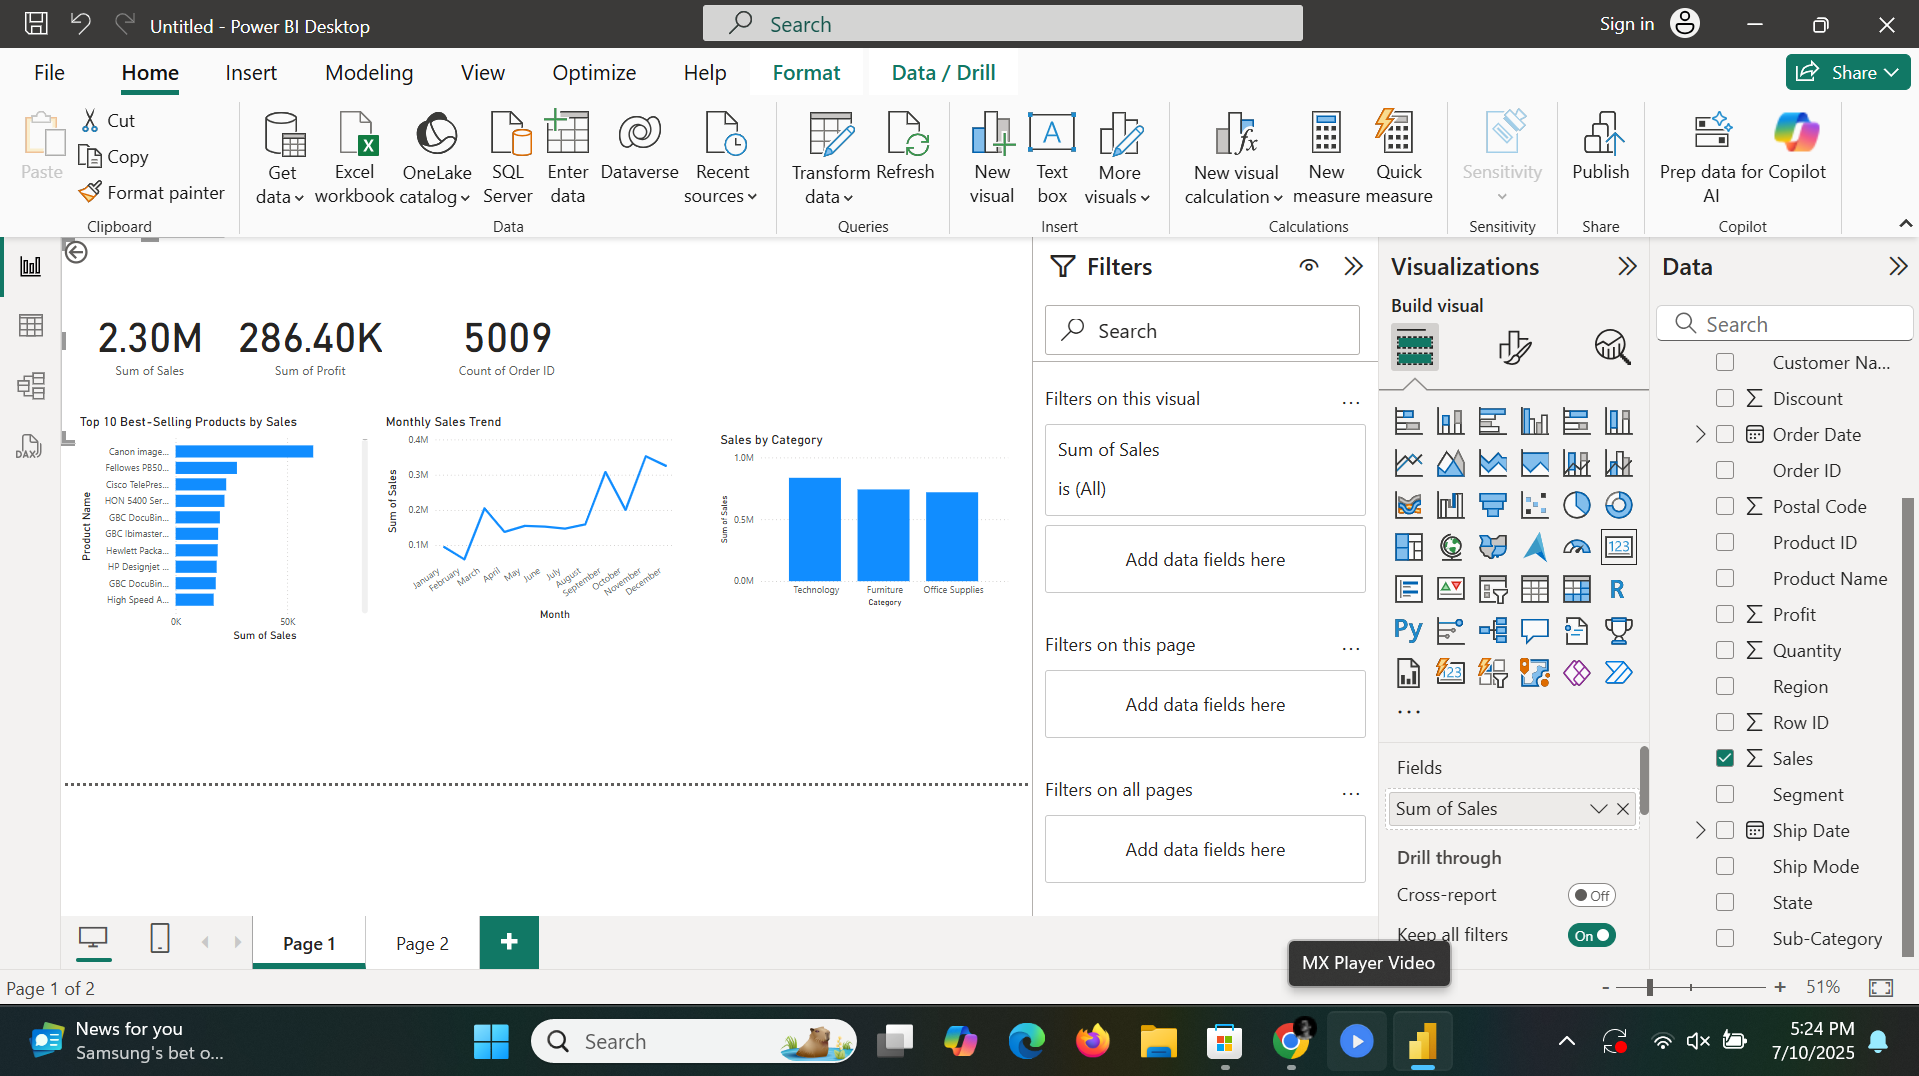

The page's visual inventory and layout, read from the dashboard file:
{"tool":"powerbi","page":{"name":"Page 1","canvas":[1280,720],"ordinal":0},"visuals":[{"type":"card","title":"Year-wise Sales Performance (2014–2017)","fields":{"Values":["Sum(Sample - Superstore.Sales)"]},"box":[20,22,162,228],"z":0},{"type":"card","fields":{"Values":["Sum(Sample - Superstore.Profit)"]},"box":[182,20,185,233],"z":1},{"type":"card","fields":{"Values":["Count(Sample - Superstore.Order ID)"]},"box":[377,77,283,119],"z":3},{"type":"actionButton","box":[0,0,100,40],"z":4},{"type":"clusteredBarChart","title":"Top 10 Best-Selling Products by Sales","fields":{"Category":["Sample - Superstore.Product Name"],"Y":["Sum(Sample - Superstore.Sales)"]},"box":[20,207,357,295],"z":5},{"type":"lineChart","title":"Monthly Sales Trend","fields":{"Category":["Sample - Superstore.Order Date.Variation.Date Hierarchy.Month"],"Y":["Sum(Sample - Superstore.Sales)"]},"box":[339,226,272,269],"z":6},{"type":"clusteredColumnChart","title":"Sales by Category","fields":{"Category":["Sample - Superstore.Category"],"Y":["Sum(Sample - Superstore.Sales)"]},"box":[864.1,257.1,389.5,235.3],"z":7}]}

Visuals, with their boxes on the page's 1280x720 design canvas (x1, y1, x2, y2). These are canvas units, not pixel positions in the 1919x1076 screenshot, which may show the page scaled, cropped or inside an application window:
"Year-wise Sales Performance (2014–2017)" card: [20,22,182,250]
card - Sum(Sample - Superstore.Profit): [182,20,367,253]
card - Count(Sample - Superstore.Order ID): [377,77,660,196]
actionButton: [0,0,100,40]
"Top 10 Best-Selling Products by Sales" clusteredBarChart: [20,207,377,502]
"Monthly Sales Trend" lineChart: [339,226,611,495]
"Sales by Category" clusteredColumnChart: [864,257,1254,492]
